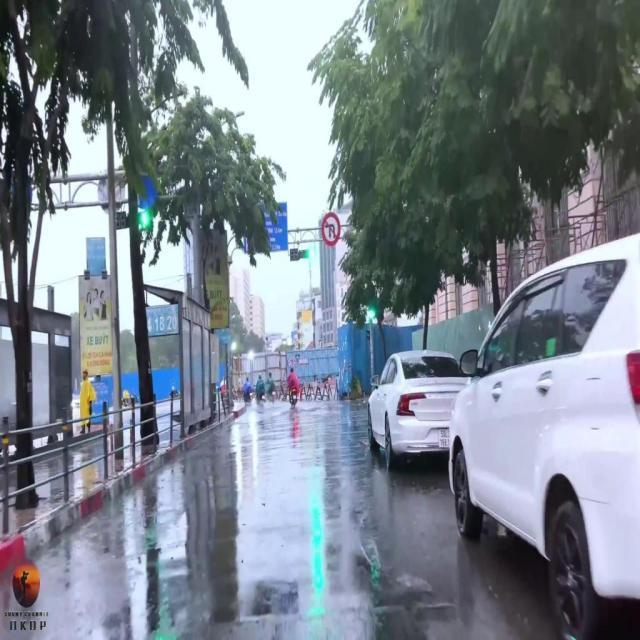124c-cam-re-trai-va-cam-quay-dau-xe: (320, 212, 340, 246)
